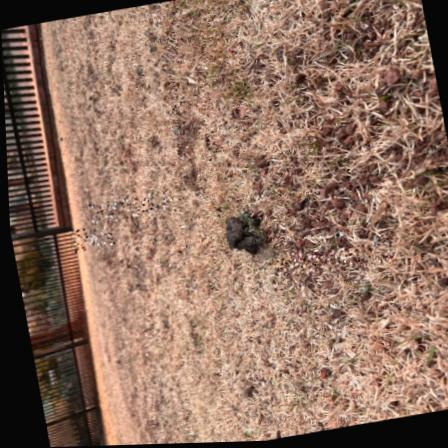dog-poop: (206, 212, 268, 262)
